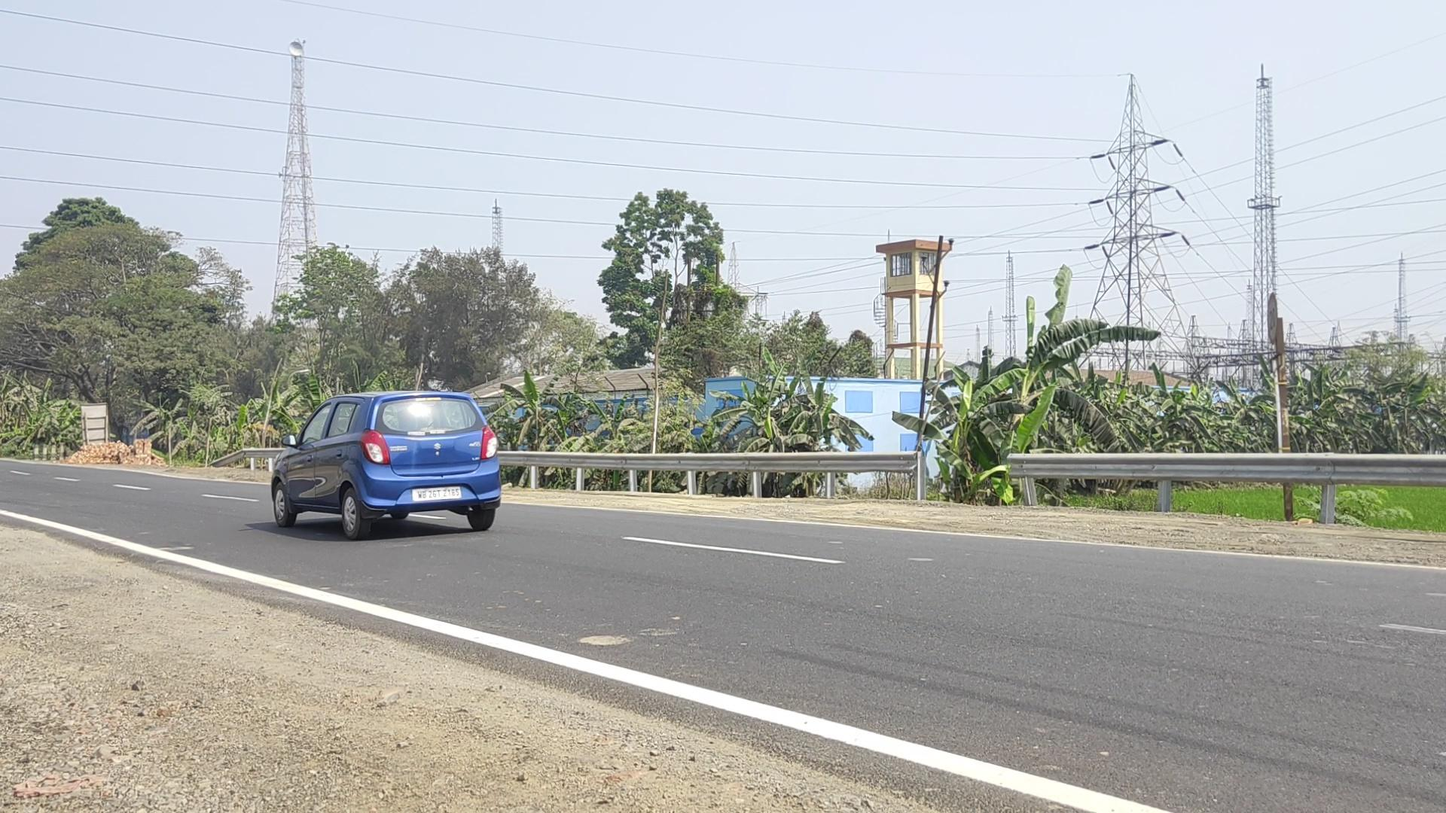car: (270, 391, 502, 540)
